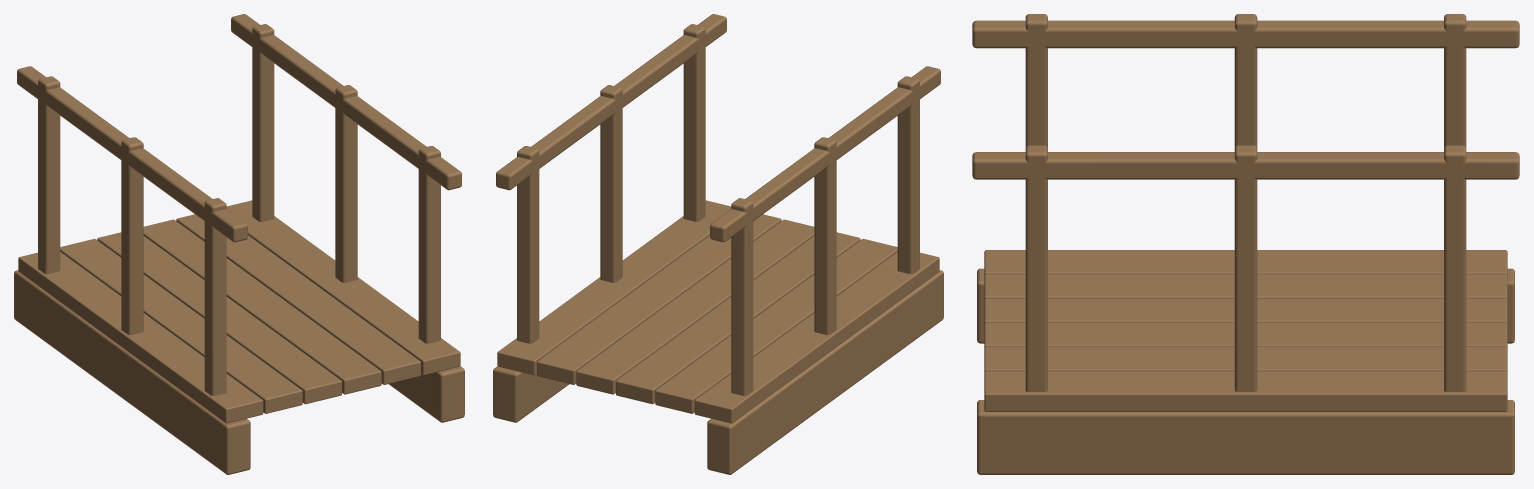
The model's file is tailrace-footbridge.glb.
3 renders of one model, left to right at view 1: azimuth 30°, elevation 25°; view 2: azimuth 150°, elevation 25°; view 3: azimuth 270°, elevation 25°, orthographic. The views are drawn at different scales.
Visible parts, largest first — view 1: tailrace-footbridge; view 2: tailrace-footbridge; view 3: tailrace-footbridge.
Part boxes in pixels (box(x1,y1,x2,y2)): tailrace-footbridge: box(14, 14, 464, 474); tailrace-footbridge: box(493, 14, 943, 474); tailrace-footbridge: box(972, 14, 1519, 474).
Size of the model in its own units: 1.16 by 1.18 by 1.83.
